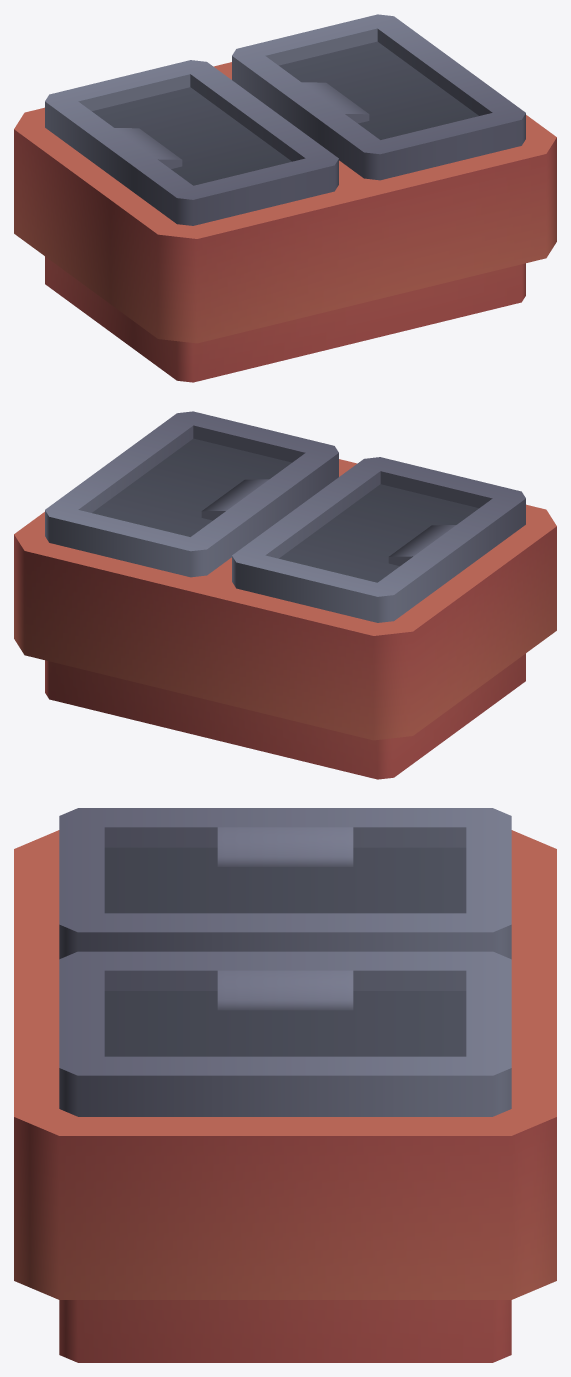
The model's file is freezer.obj.
3 renders of one model, top to bottom at view 1: azimuth 30°, elevation 25°; view 2: azimuth 150°, elevation 25°; view 3: azimuth 270°, elevation 25°, orthographic. The views are drawn at different scales.
Visible parts, largest first — view 1: freezer; view 2: freezer; view 3: freezer.
Part boxes in pixels (x1,y1,x2,y2): freezer: [14, 14, 556, 382]; freezer: [14, 411, 556, 779]; freezer: [14, 808, 556, 1362].
Bounding box in the file's own units: 0.8 × 0.35 × 0.6.
